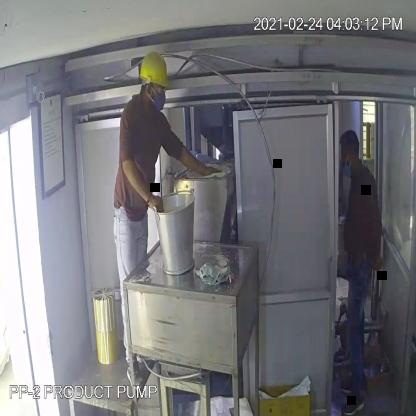helmet: (139, 50, 170, 84)
